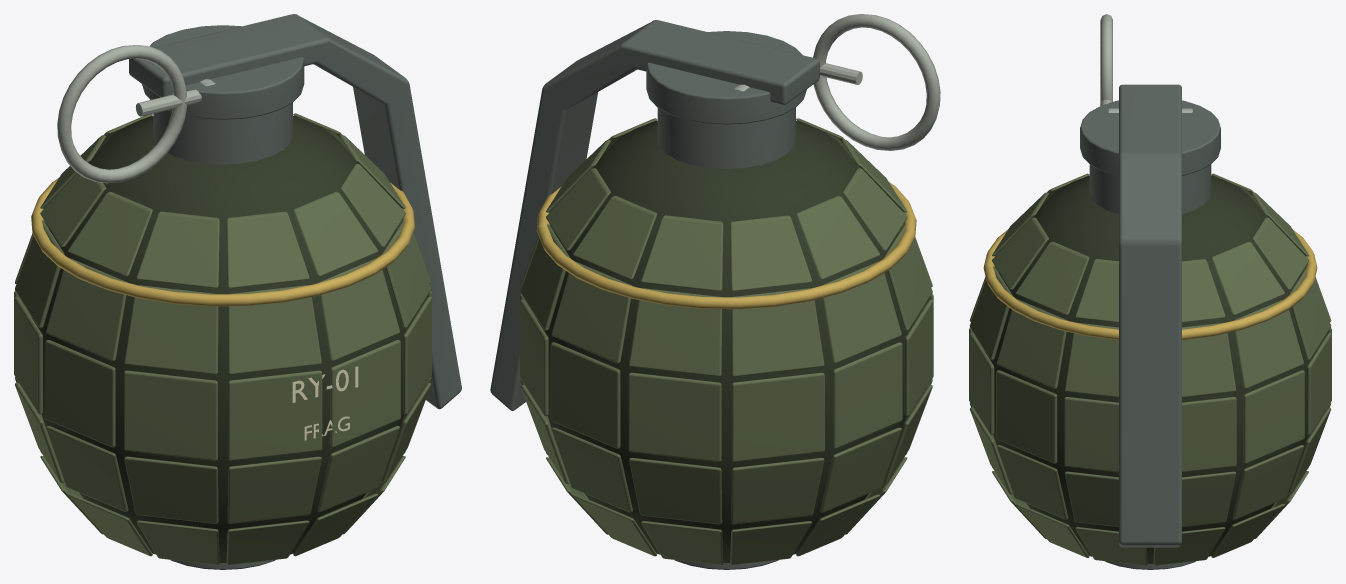
Rendered from relay-grenade.glb.
3 renders of one model, left to right at view 1: azimuth 30°, elevation 25°; view 2: azimuth 150°, elevation 25°; view 3: azimuth 270°, elevation 25°, orthographic. The views are drawn at different scales.
Visible parts, largest first — view 1: RY-01 Fragmentation Grenade; view 2: RY-01 Fragmentation Grenade; view 3: RY-01 Fragmentation Grenade.
Part boxes in pixels (bbox=[...]): RY-01 Fragmentation Grenade: bbox=[14, 14, 461, 569]; RY-01 Fragmentation Grenade: bbox=[490, 14, 940, 569]; RY-01 Fragmentation Grenade: bbox=[969, 14, 1331, 569].
Bounding box in the file's own units: 0.1703 × 0.2141 × 0.1495.
